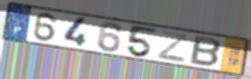4: (61, 15, 91, 50)
5: (125, 23, 160, 58)
6: (96, 21, 124, 53), (33, 12, 59, 43)
B: (187, 34, 222, 69)
Z: (156, 29, 190, 64)
